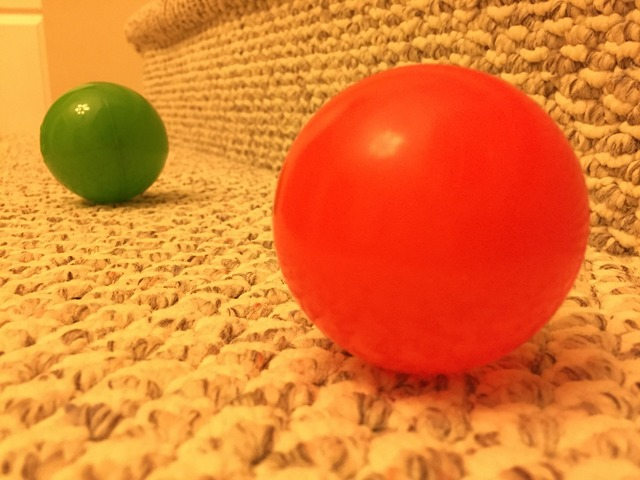Ball: (271, 63, 598, 372)
